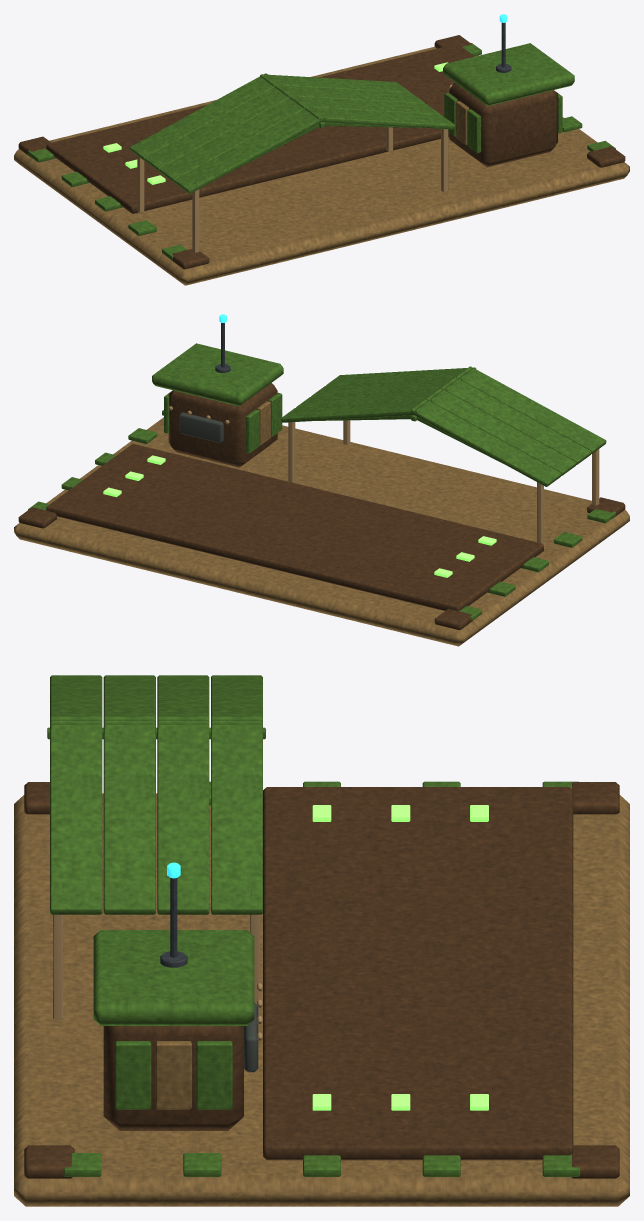
Rendered from vael_piste_de_fortune.gltf.
The picture shows the model from 3 angles, top to bottom: view 1: azimuth 30°, elevation 25°; view 2: azimuth 150°, elevation 25°; view 3: azimuth 270°, elevation 25°; orthographic projection. The views are drawn at different scales.
Visible parts, largest first — view 1: Root.013_Geometry; view 2: Root.013_Geometry; view 3: Root.013_Geometry.
Part boxes in pixels (x1,y1,x2,y2): Root.013_Geometry: (14, 14, 629, 285); Root.013_Geometry: (14, 314, 629, 646); Root.013_Geometry: (14, 675, 629, 1206).
Size of the model in its own units: 5.91 by 1.91 by 3.91.
Materials: 8 (4 with a texture image).
